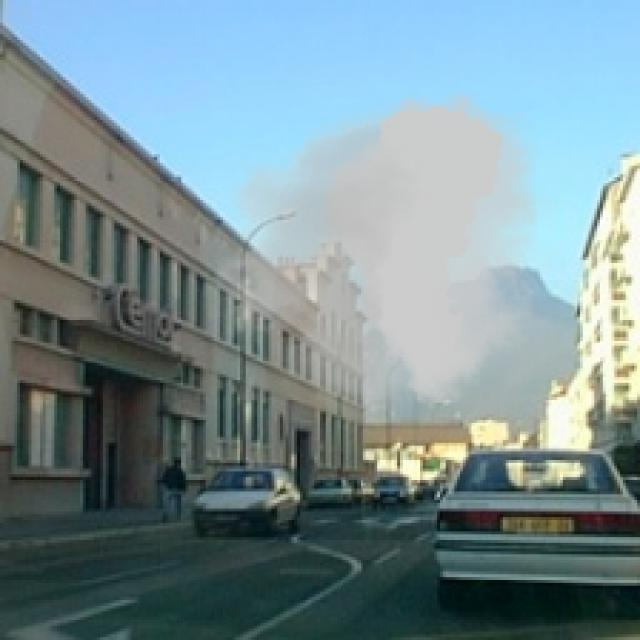Smoke: (191, 83, 566, 426)
